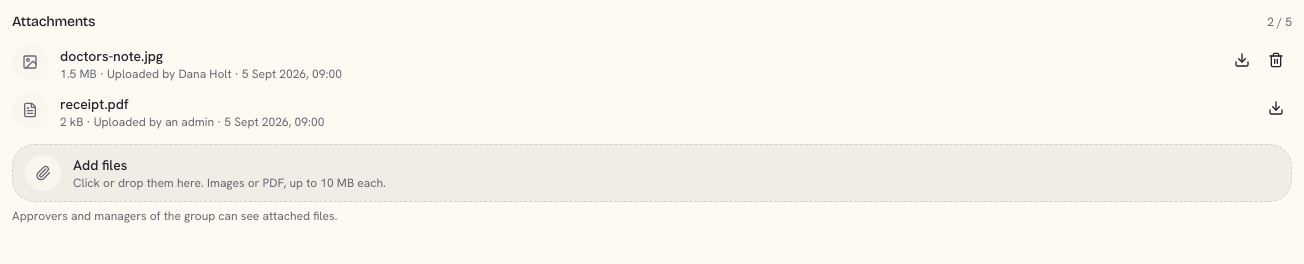
AttachmentSection › reports a blocked popup instead of leaving the app for the PDF
Click the button with aria-label "Open receipt.pdf" at [94, 104], box x1=60 y1=94 x2=129 y2=114
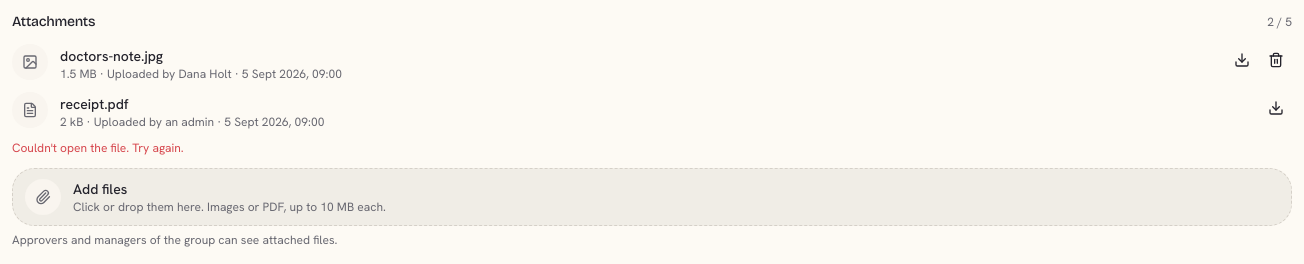
Check: the message reads "Couldn't open the file. Try again.", box x1=12 y1=140 x2=184 y2=156
